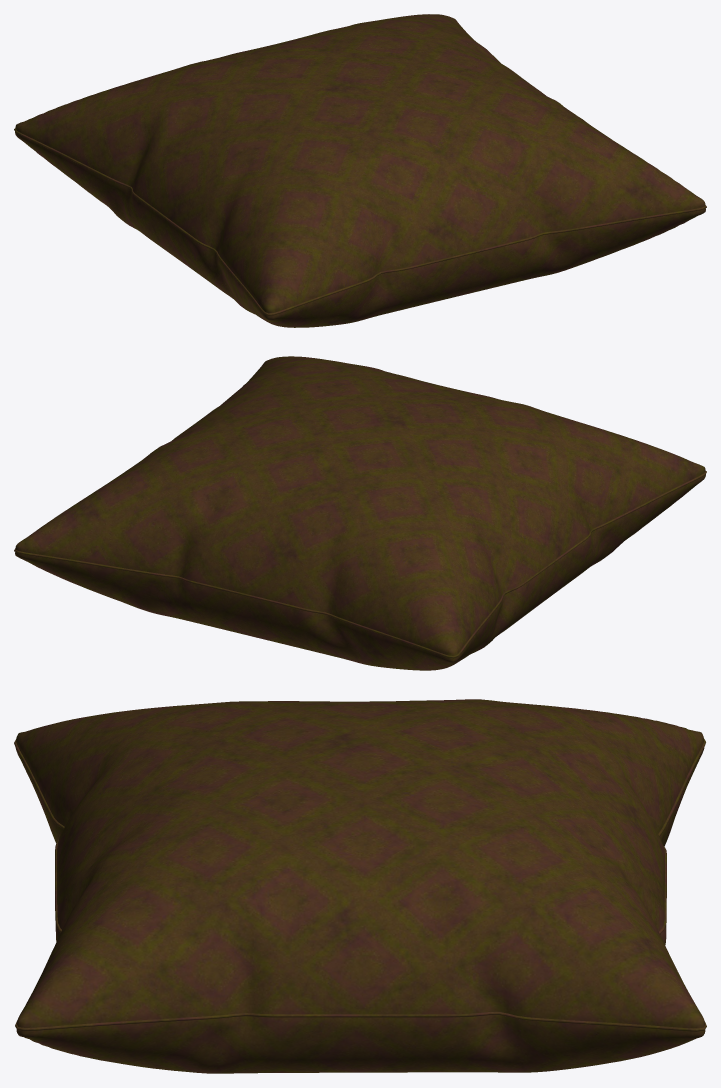
Rendered from pillow_001.fbx.
3 views of the same model, one above another, from view 1: azimuth 30°, elevation 25°; view 2: azimuth 150°, elevation 25°; view 3: azimuth 270°, elevation 25° (orthographic). The views are drawn at different scales.
Visible parts, largest first — view 1: Pillow; view 2: Pillow; view 3: Pillow.
Boxes of the visible parts, left/top/right/bottom form: Pillow: left=14, top=14, right=706, bottom=327; Pillow: left=14, top=356, right=706, bottom=670; Pillow: left=14, top=699, right=706, bottom=1073.
Size of the model in its own units: 60 by 20 by 60.
